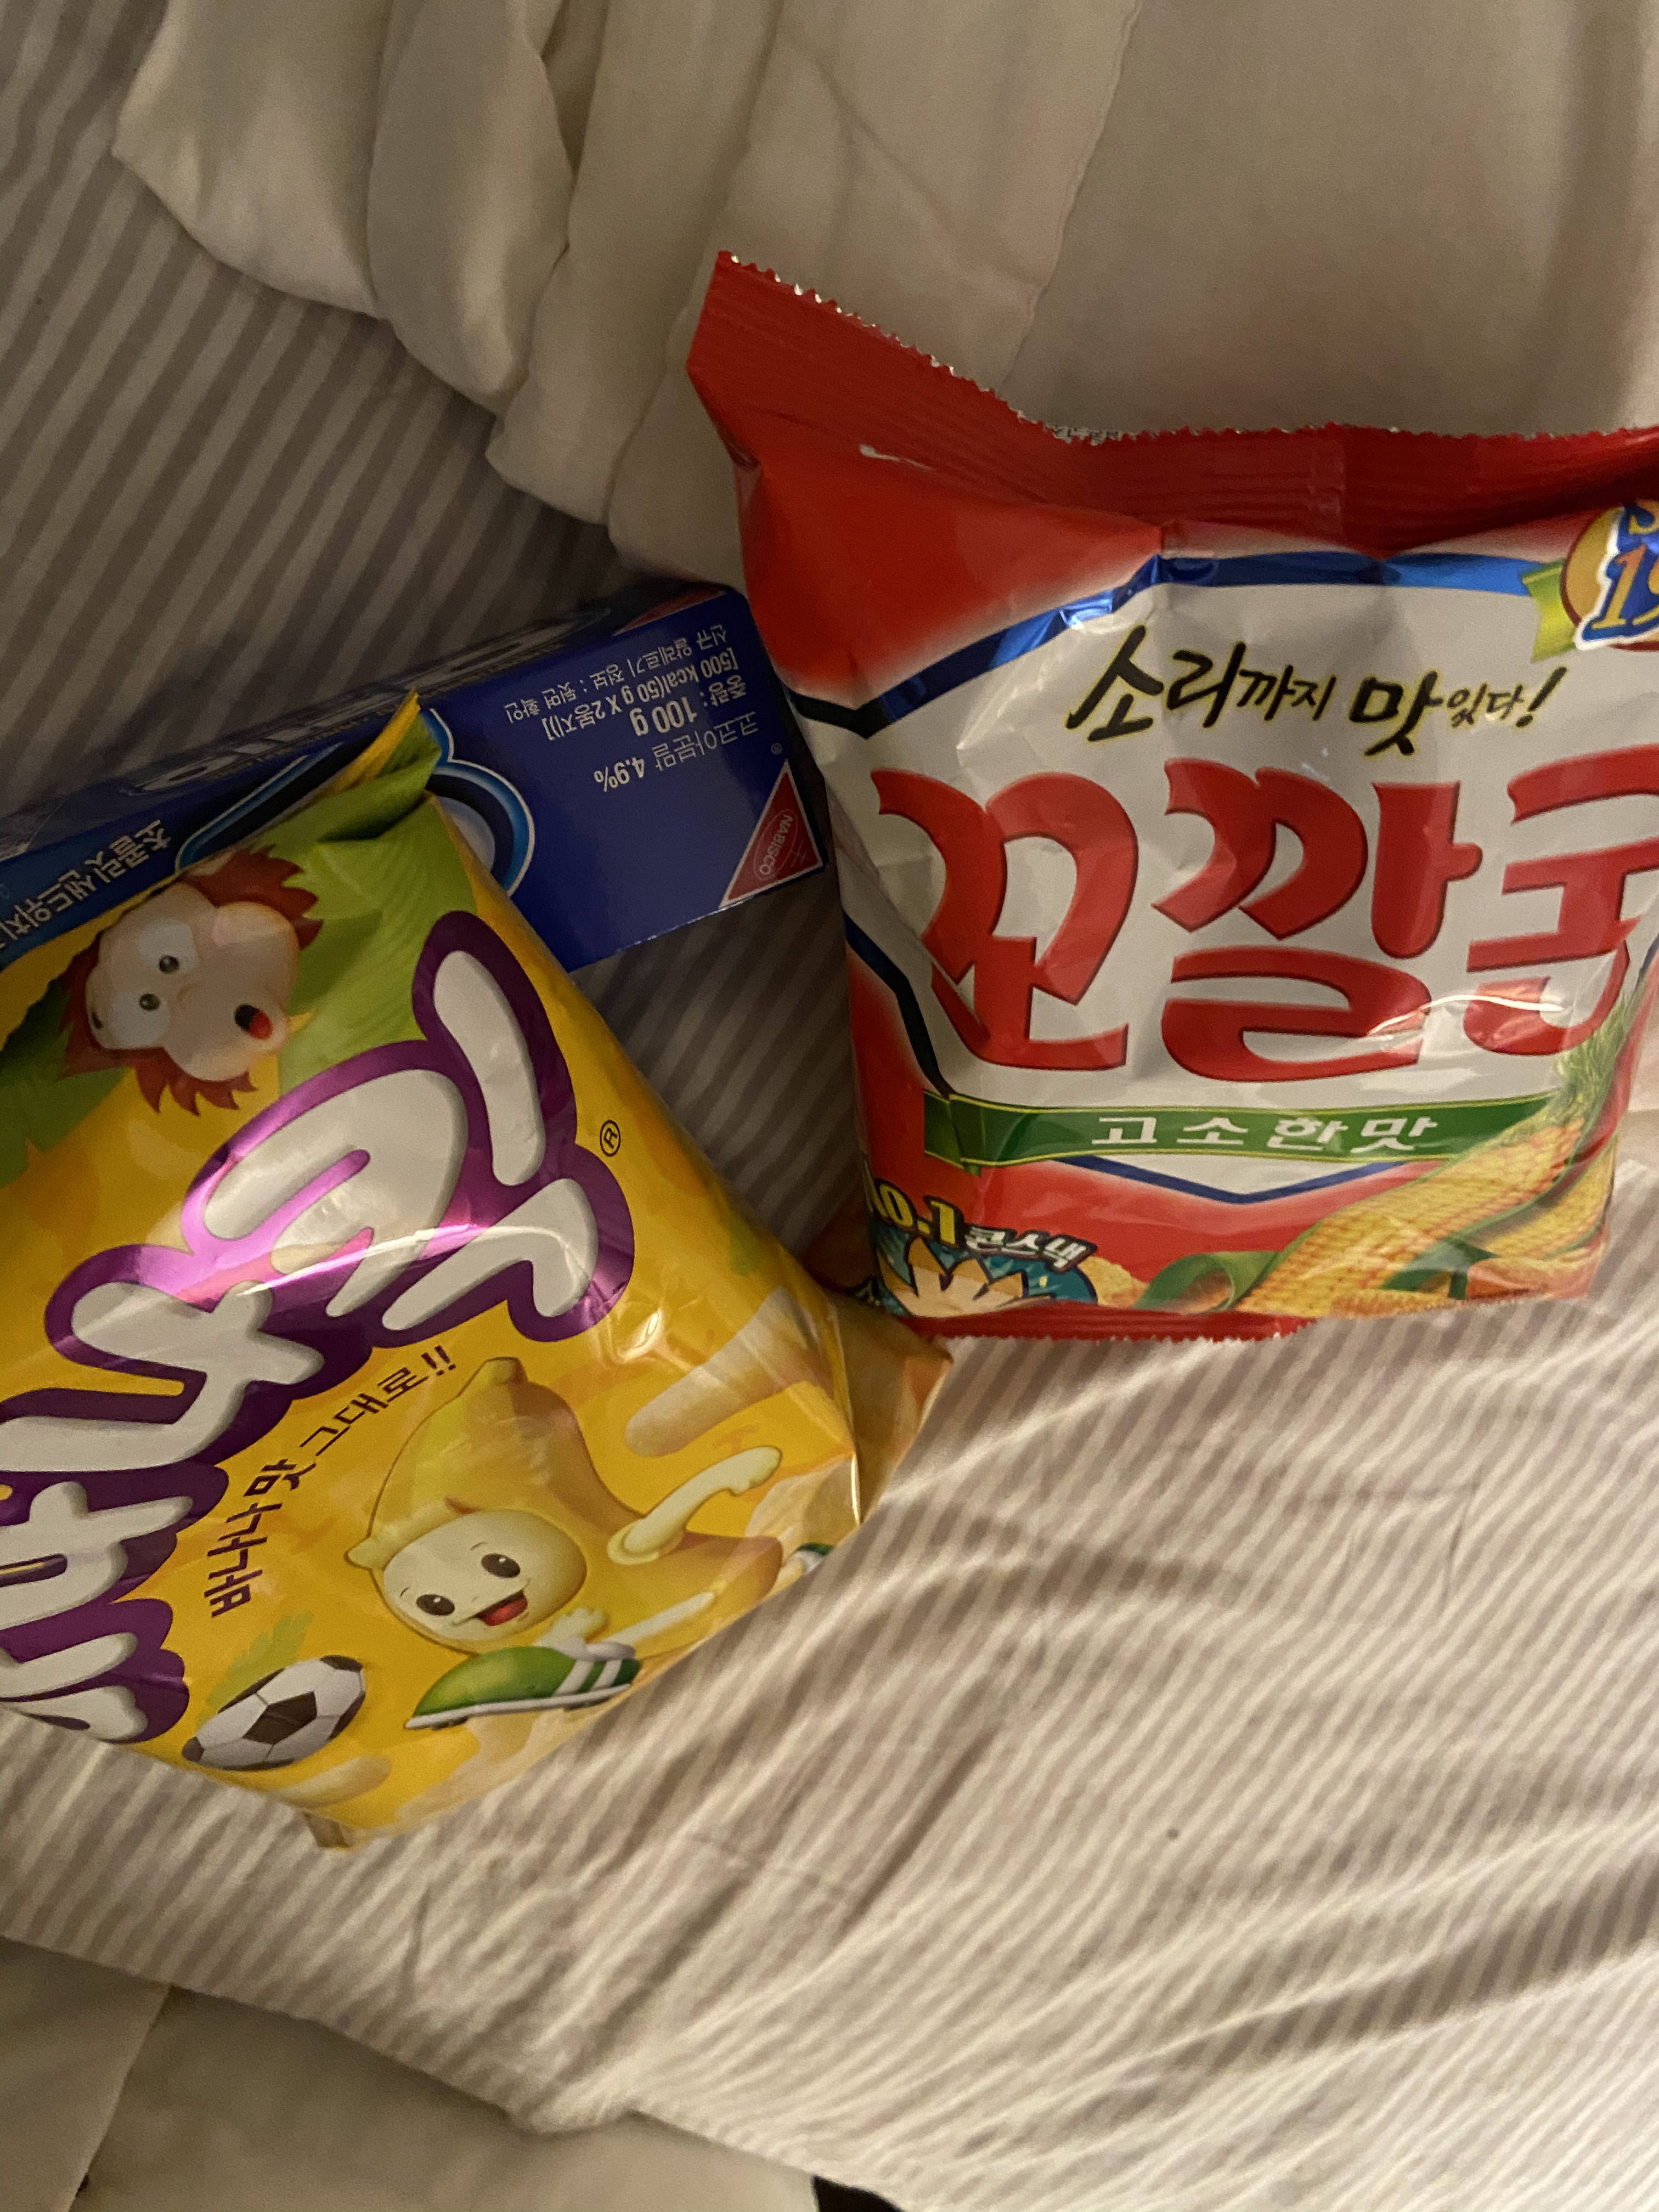banana: (0, 655, 967, 1878)
ggoggalcon: (664, 242, 1659, 1360)
